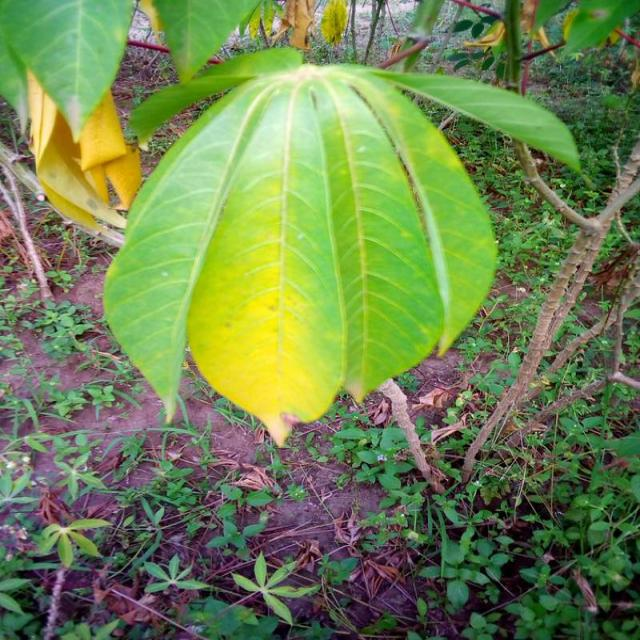cassava leaf: (101, 58, 500, 447)
